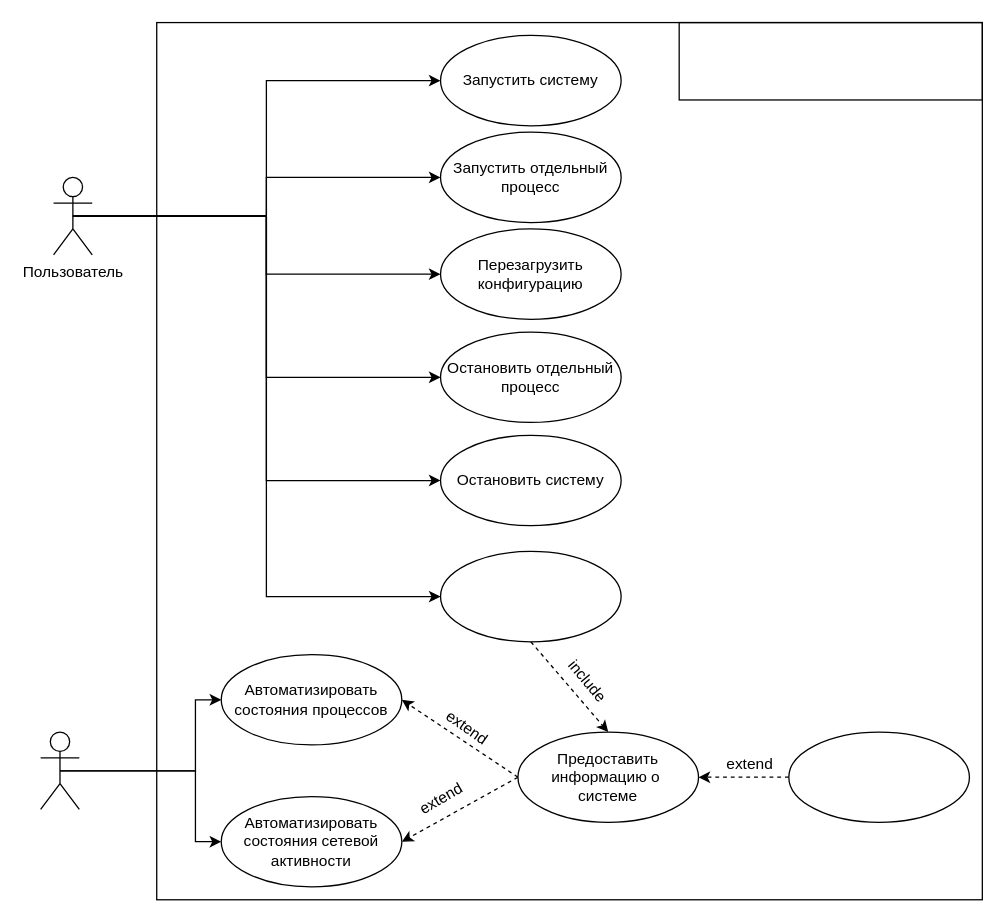
The diagram is 1005 pixels wide and 922 high, and some of its shapes have lost their labels. The shapes that lost their labels are listed below. From the top down, each one's centre as x and y in pixels, then its label:
At (x=830, y=60): "Система управления процессами КИС".
At (x=530, y=596): "Получить информацию о работе системы".
At (x=59, y=770): "ИУС".
At (x=878, y=776): "Отослать уведомление".
